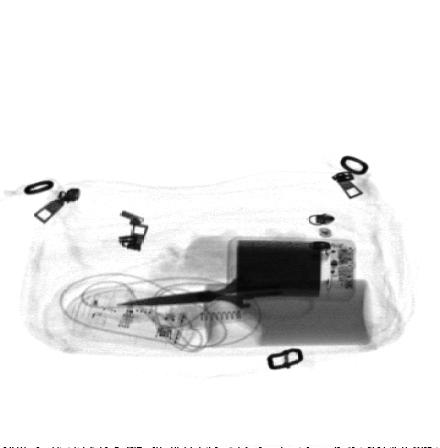Powerbank: (224, 236, 358, 304)
Scissors: (105, 256, 316, 322)
